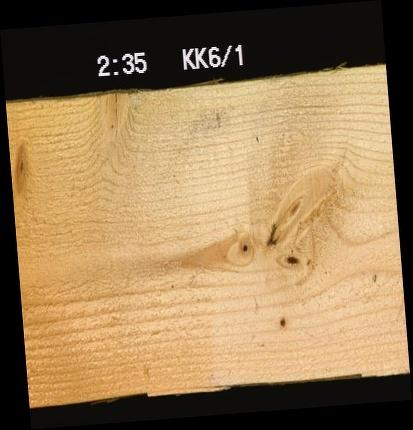small_knot: (234, 235, 255, 257), (273, 313, 291, 327)
